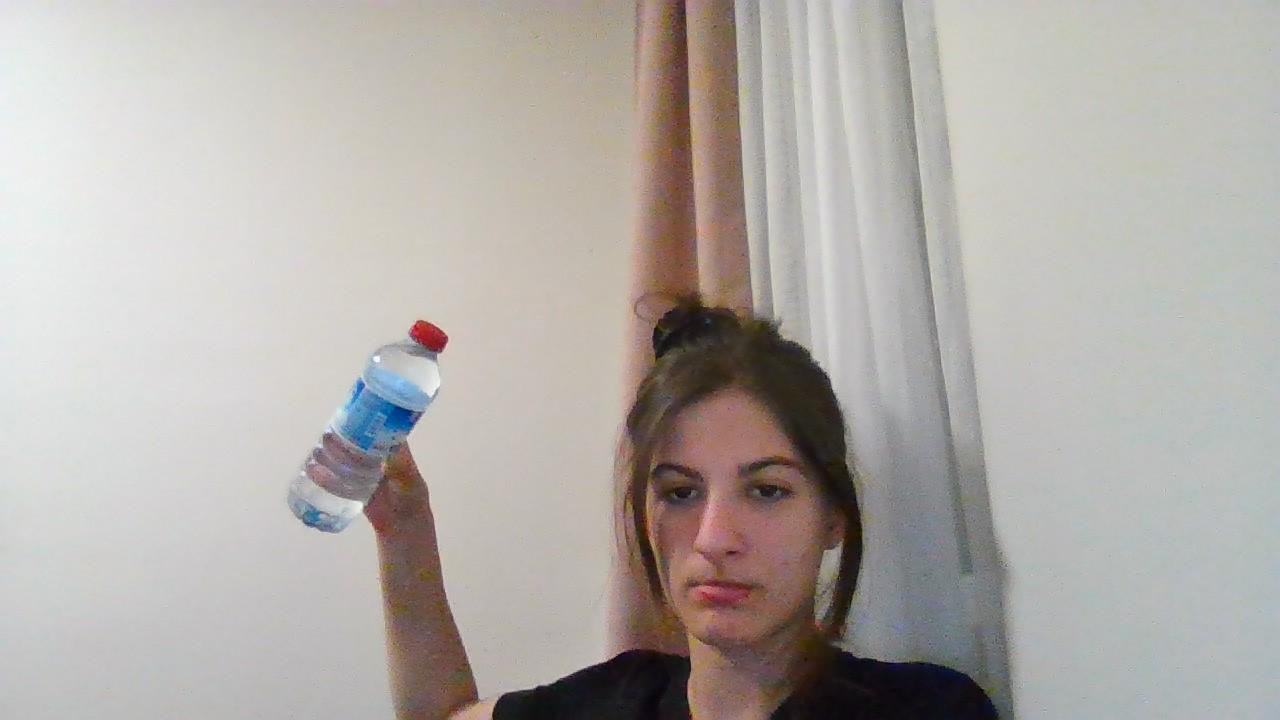bottle: (282, 317, 452, 538)
